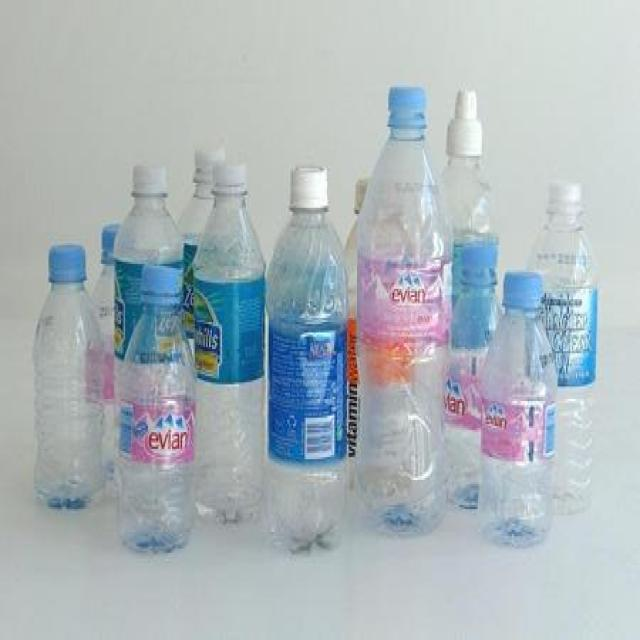bottle: (352, 77, 456, 548), (266, 164, 356, 558), (522, 183, 606, 527), (190, 159, 267, 529), (437, 83, 499, 528), (472, 264, 563, 559), (111, 256, 196, 563), (23, 235, 108, 512), (110, 165, 188, 381)
